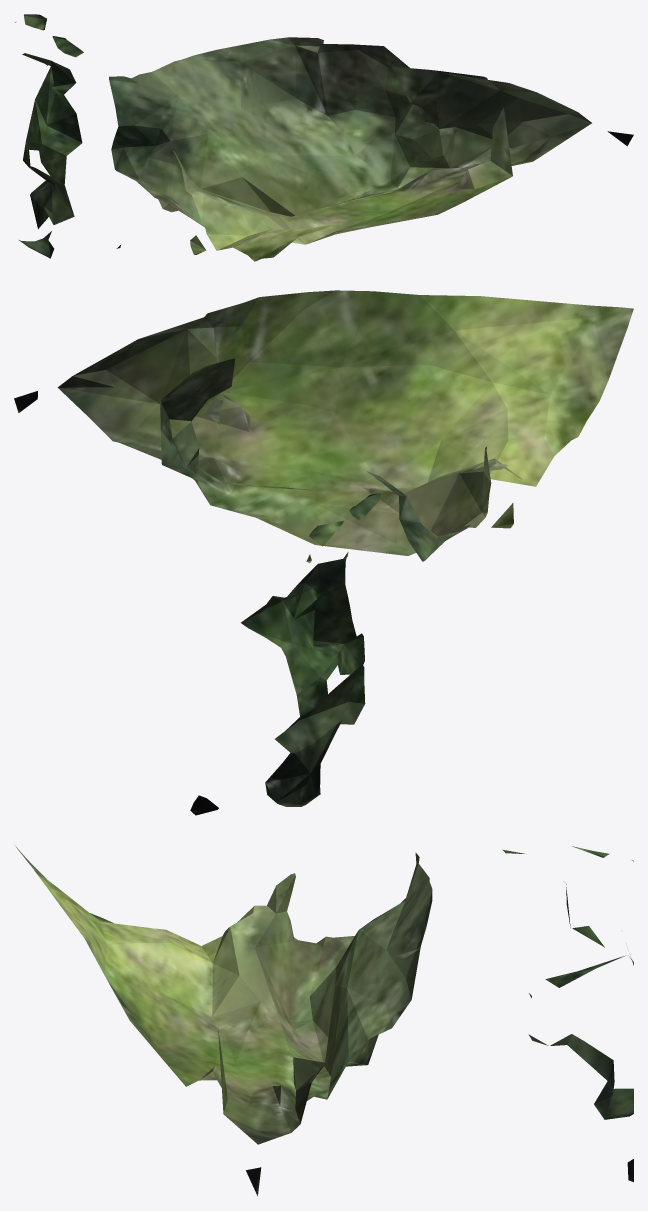
3 renders of one model, top to bottom at view 1: azimuth 30°, elevation 25°; view 2: azimuth 150°, elevation 25°; view 3: azimuth 270°, elevation 25°, orthographic. The views are drawn at different scales.
Bounding box in the file's own units: 30 × 17.28 × 34.09.
1 material, 1 textured.
